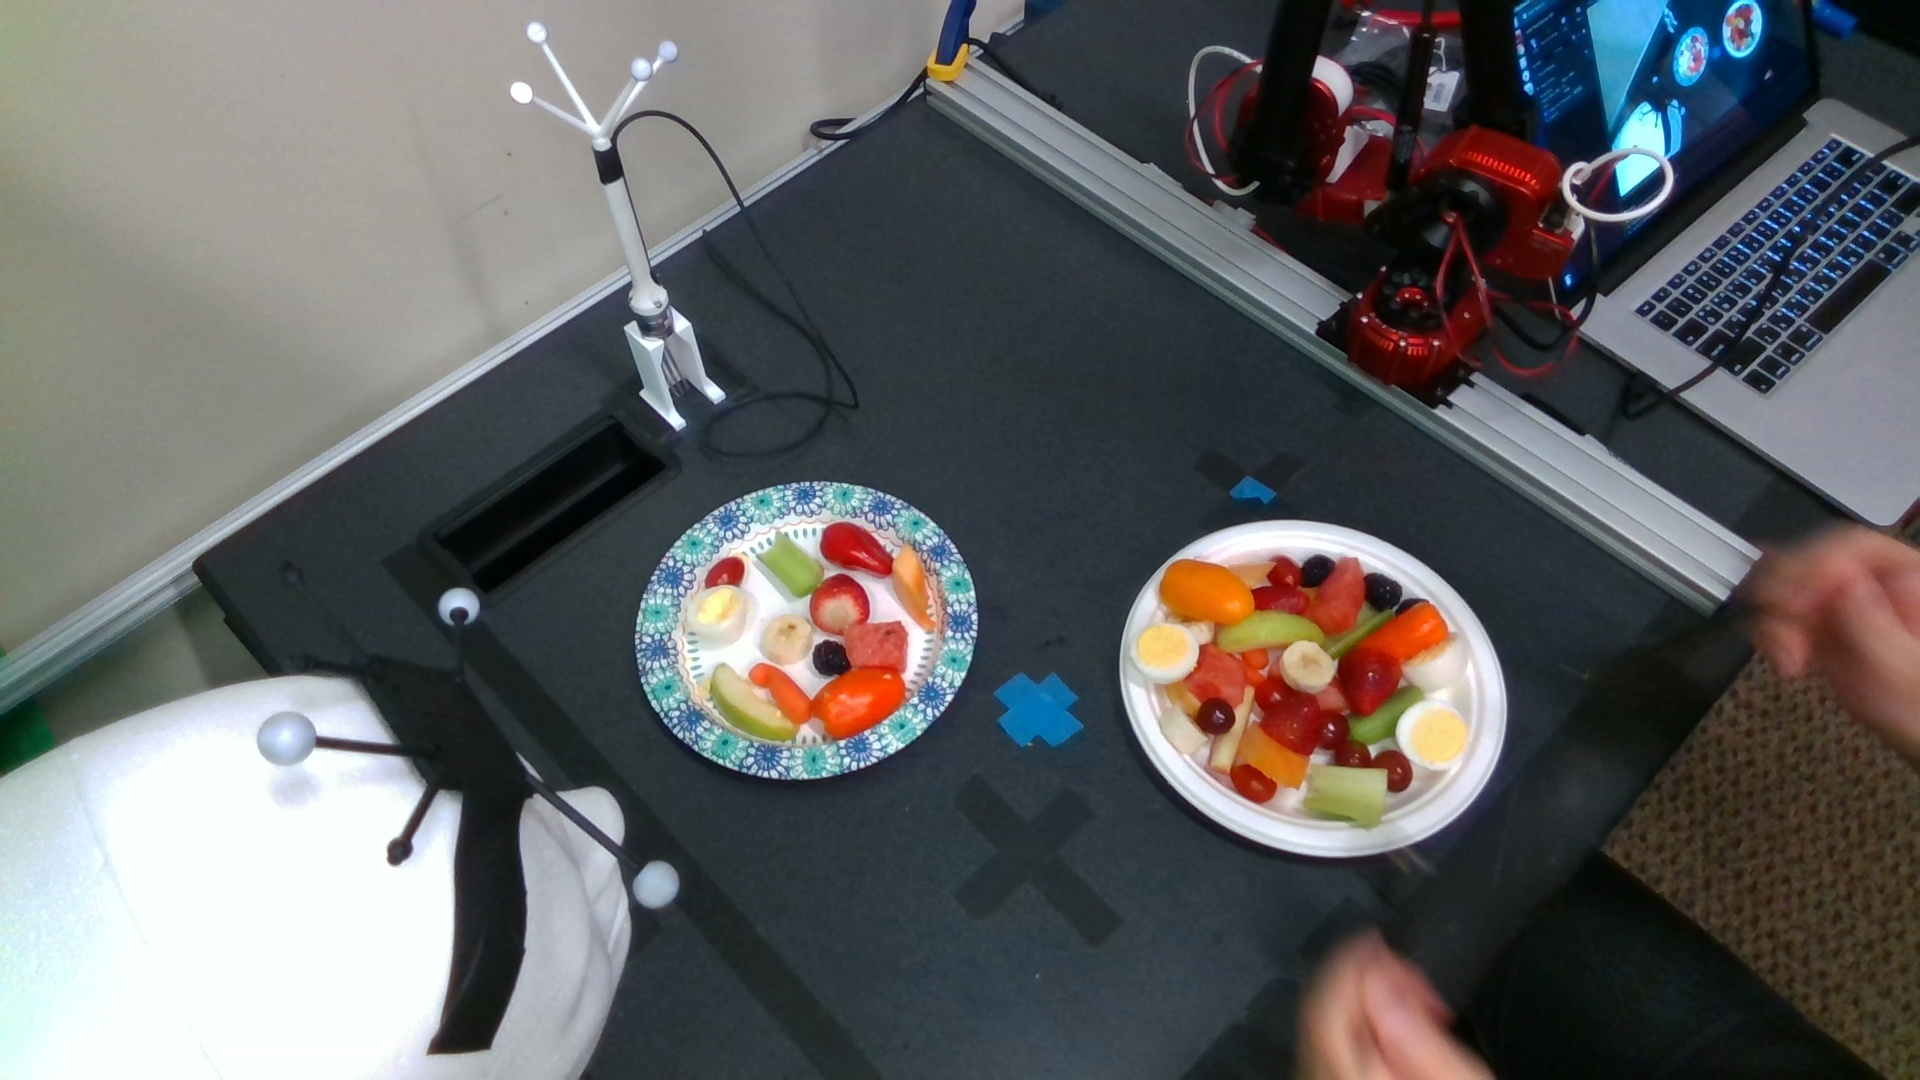apple: (712, 663, 799, 740), (1216, 611, 1327, 651)
banana: (1280, 641, 1335, 694), (764, 615, 814, 665), (1160, 702, 1208, 752)
bell pepper: (812, 669, 905, 738), (1162, 560, 1253, 624), (1357, 603, 1448, 659), (820, 521, 893, 576)
blackberry: (1364, 574, 1402, 611), (814, 640, 851, 675), (1302, 555, 1335, 587)
cantalope: (893, 545, 935, 630)
carrot: (749, 663, 812, 723)
celery: (1307, 765, 1387, 825), (757, 530, 824, 597)
cherry tomato: (1232, 764, 1276, 800), (704, 556, 744, 589), (1267, 556, 1302, 585)
egg: (1396, 702, 1468, 769), (1130, 622, 1197, 684), (1403, 633, 1466, 691), (687, 584, 746, 642)
grape: (1373, 750, 1414, 793), (1196, 699, 1236, 735), (1317, 711, 1350, 750), (1335, 740, 1371, 767)
melon: (1311, 558, 1364, 632), (1185, 644, 1245, 705), (844, 621, 909, 671)
plate: (1120, 520, 1505, 857), (636, 481, 977, 781)
strawberry: (1338, 649, 1400, 716), (1261, 692, 1321, 756), (810, 574, 870, 636)
